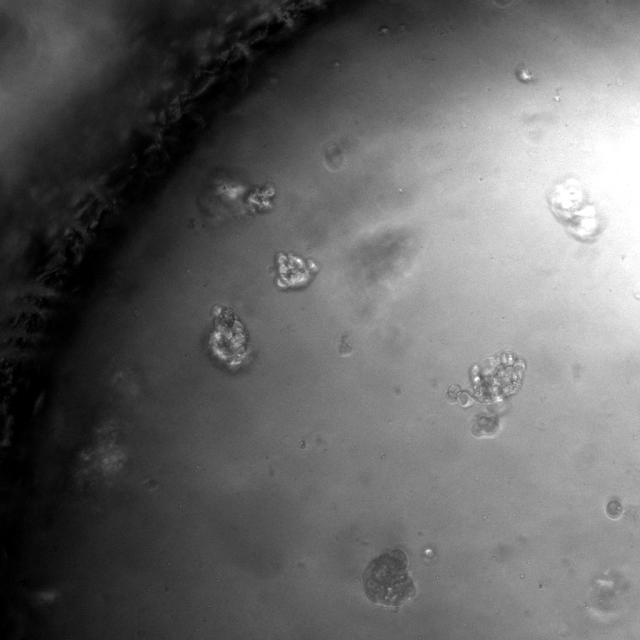organoid: (447, 351, 526, 408), (198, 171, 275, 221), (547, 178, 601, 241), (205, 305, 251, 372), (362, 549, 414, 607), (275, 251, 318, 289), (472, 413, 499, 436), (514, 65, 536, 83), (606, 498, 622, 519)
